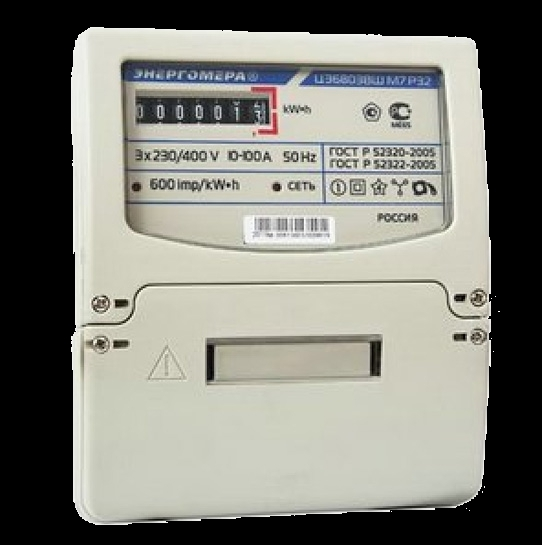counter: (63, 23, 496, 525)
counter_screen: (133, 88, 275, 128)
